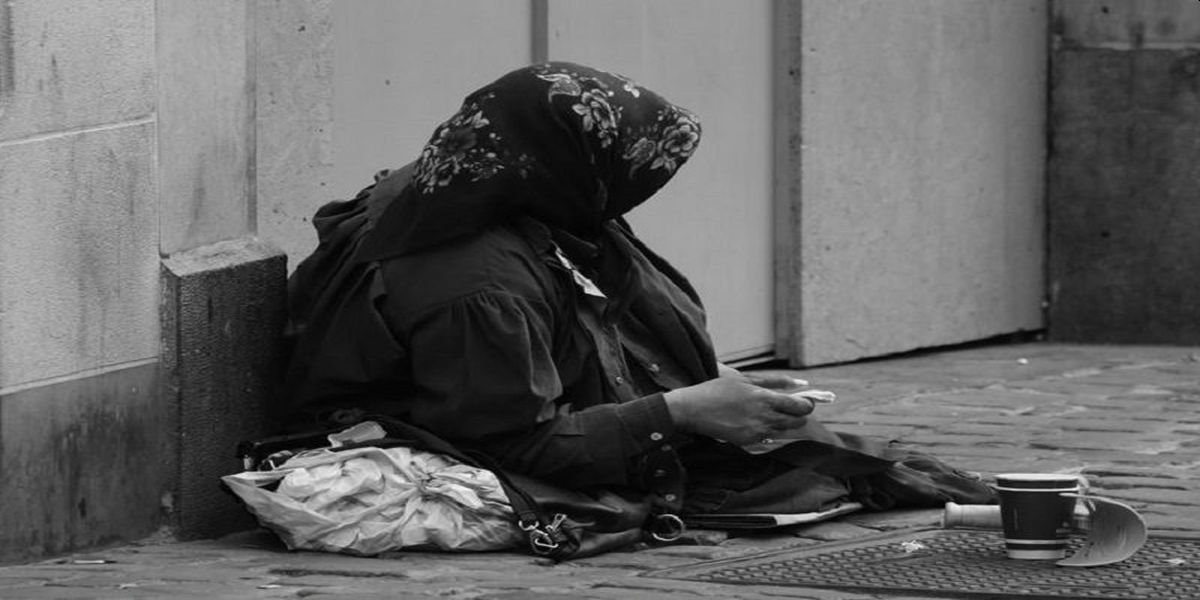gelandangan: (168, 51, 1166, 600)
